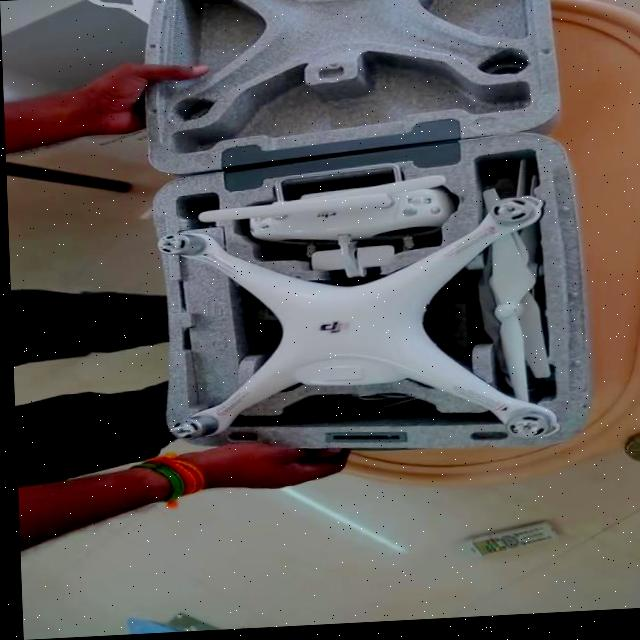drone: (145, 199, 559, 461)
